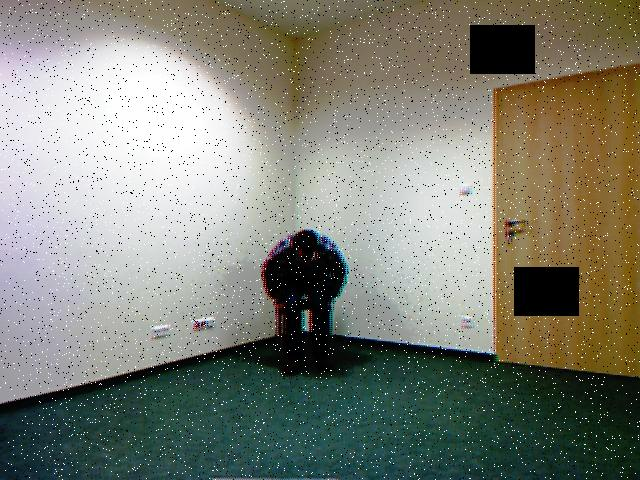bending: (254, 220, 358, 382)
